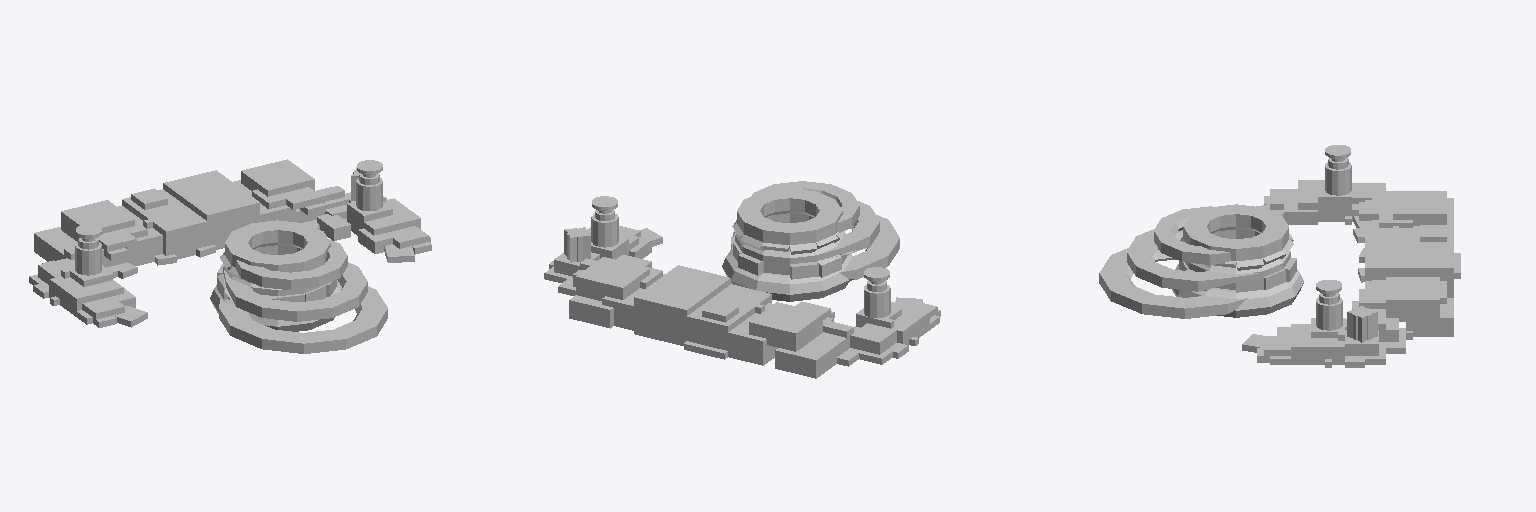
File: Tutorial Spawn location.obj
3 views of the same model, side by side, from view 1: azimuth 30°, elevation 25°; view 2: azimuth 150°, elevation 25°; view 3: azimuth 270°, elevation 25° (orthographic).
Parts seen in each view (by area): view 1: cube, torus, circle; view 2: cube, torus, circle; view 3: cube, torus, circle.
Part boxes in pixels (bbox=[...]): cube: bbox=[29, 159, 431, 327]; torus: bbox=[210, 220, 387, 353]; circle: bbox=[75, 160, 382, 275]; cube: bbox=[544, 226, 940, 378]; torus: bbox=[722, 181, 899, 301]; circle: bbox=[591, 196, 890, 317]; cube: bbox=[1242, 180, 1460, 367]; torus: bbox=[1099, 204, 1303, 318]; circle: bbox=[1316, 145, 1351, 330].
Size of the model in its own units: 3.75 by 0.7812 by 3.32.